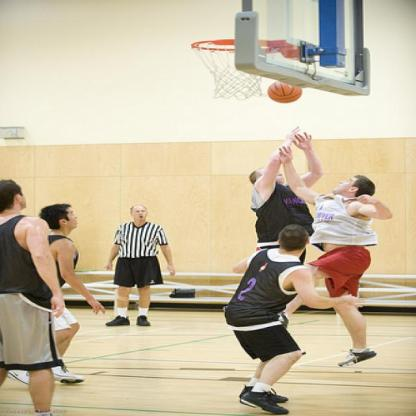basketball: (266, 79, 303, 104)
rim: (191, 40, 280, 55)
